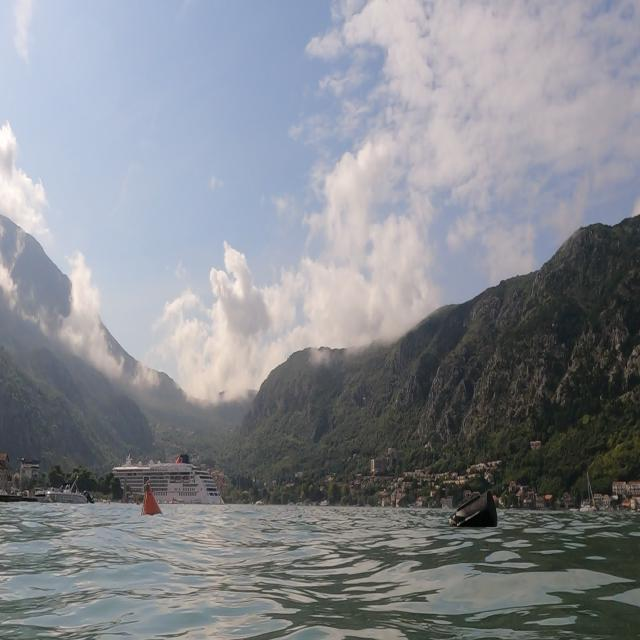boat: (110, 456, 232, 512), (32, 462, 94, 509)
buoy: (439, 474, 510, 540), (130, 470, 168, 529)
